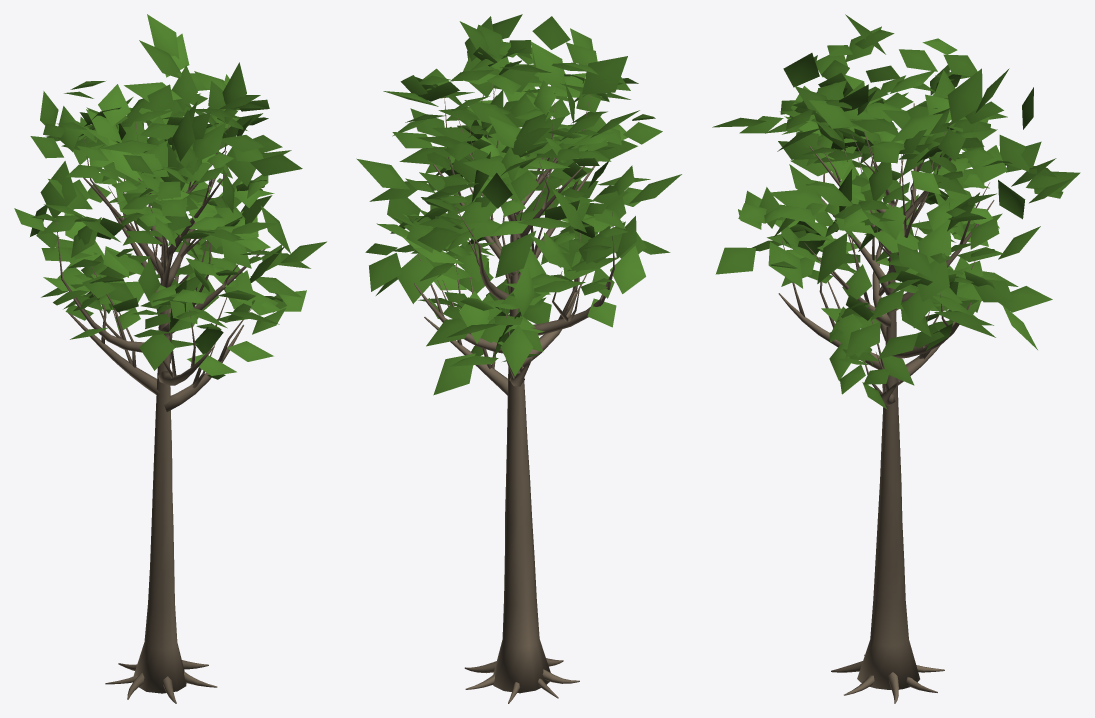
File: woodland_tall_lod.glb
3 views of the same model, side by side, from view 1: azimuth 30°, elevation 25°; view 2: azimuth 150°, elevation 25°; view 3: azimuth 270°, elevation 25° (orthographic). The views are drawn at different scales.
Parts seen in each view (by area): view 1: woodland_tall_lod_leaves.001, woodland_tall_lod_bark.001; view 2: woodland_tall_lod_leaves.001, woodland_tall_lod_bark.001; view 3: woodland_tall_lod_leaves.001, woodland_tall_lod_bark.001.
Part boxes in pixels (left/top/right/bottom): woodland_tall_lod_leaves.001: left=14, top=14, right=326, bottom=379; woodland_tall_lod_bark.001: left=56, top=122, right=265, bottom=703; woodland_tall_lod_leaves.001: left=356, top=14, right=681, bottom=395; woodland_tall_lod_bark.001: left=414, top=73, right=614, bottom=703; woodland_tall_lod_leaves.001: left=712, top=14, right=1080, bottom=409; woodland_tall_lod_bark.001: left=778, top=87, right=994, bottom=703.
Bounding box in the file's own units: 10.47 × 21.55 × 11.38.
